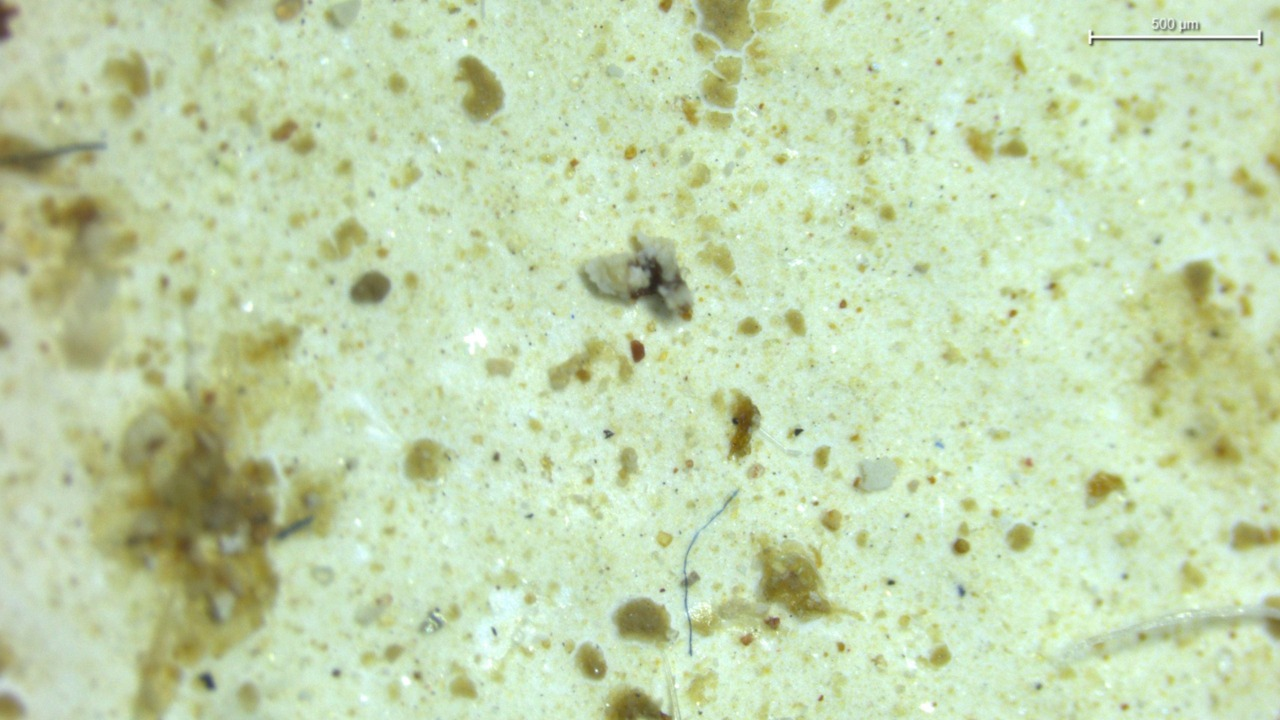microplastic_fragment: (582, 236, 692, 315), (855, 458, 899, 492)
